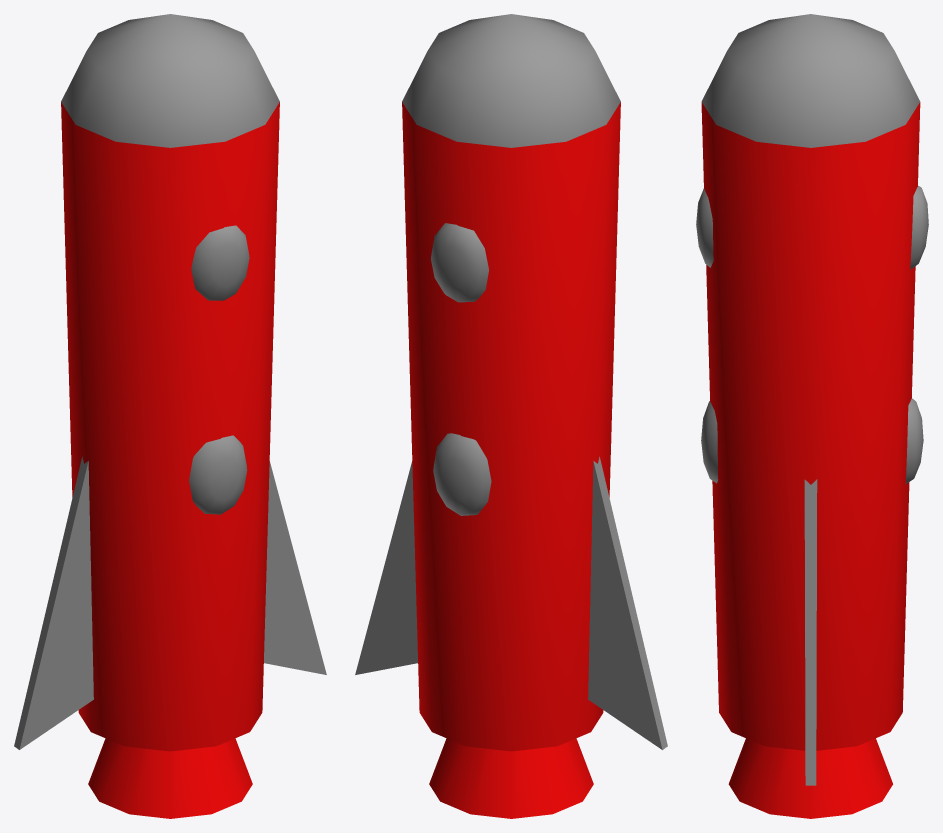
File: model_enemy.FBX
The picture shows the model from 3 angles, left to right: view 1: azimuth 30°, elevation 25°; view 2: azimuth 150°, elevation 25°; view 3: azimuth 270°, elevation 25°; orthographic projection.
Visible parts, largest first — view 1: mesh_enemy; view 2: mesh_enemy; view 3: mesh_enemy.
Part boxes in pixels (<box>): mesh_enemy: <box>14,14,326,818</box>; mesh_enemy: <box>355,14,667,818</box>; mesh_enemy: <box>696,14,928,818</box>.
Bounding box in the file's own units: 12.46 × 29.83 × 8.17.
